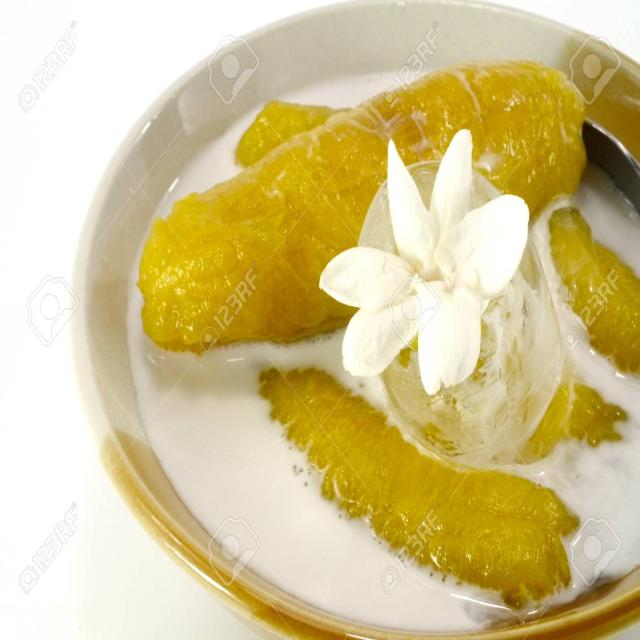platano: (156, 64, 576, 300)
